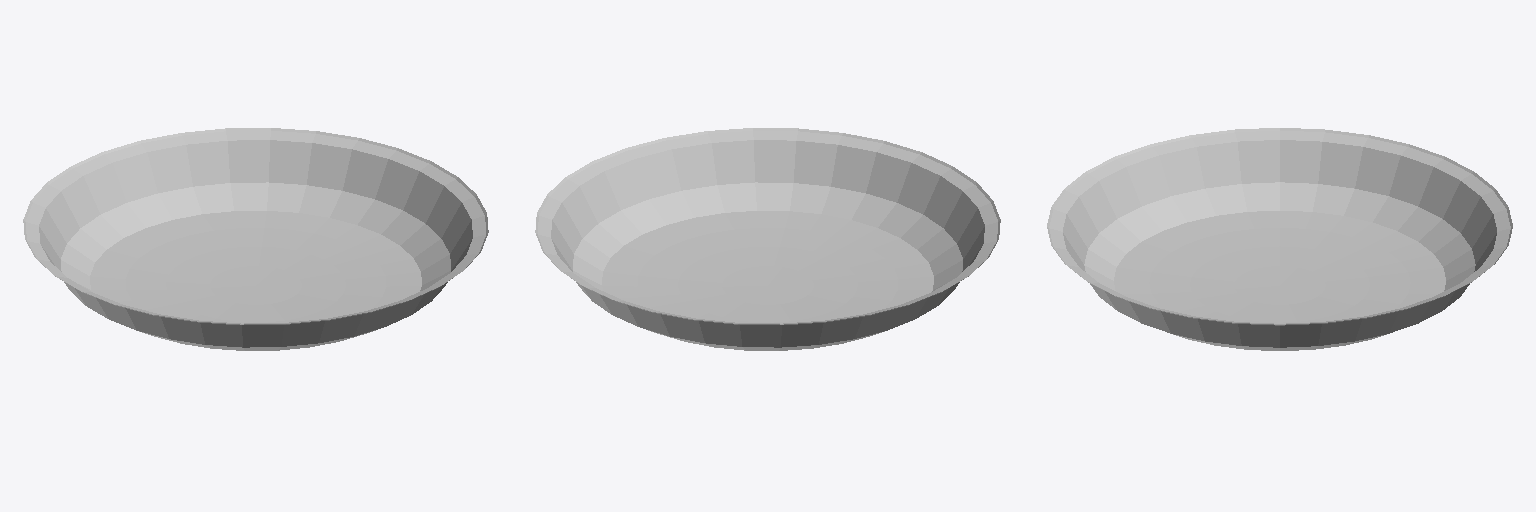
The model's file is pad.obj.
3 renders of one model, left to right at view 1: azimuth 30°, elevation 25°; view 2: azimuth 150°, elevation 25°; view 3: azimuth 270°, elevation 25°, orthographic.
Parts seen in each view (by area): view 1: Sphere; view 2: Sphere; view 3: Sphere.
Boxes of the visible parts, x1=… form: Sphere: x1=23, y1=128, x2=488, y2=350; Sphere: x1=535, y1=128, x2=1000, y2=350; Sphere: x1=1047, y1=128, x2=1512, y2=350.
Size of the model in its own units: 1.15 by 0.1627 by 1.15.